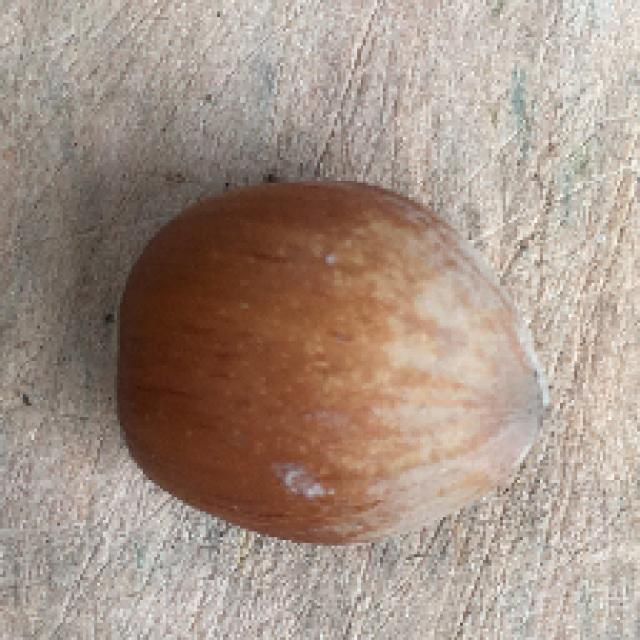qualityHazelnut: (110, 174, 550, 546)
